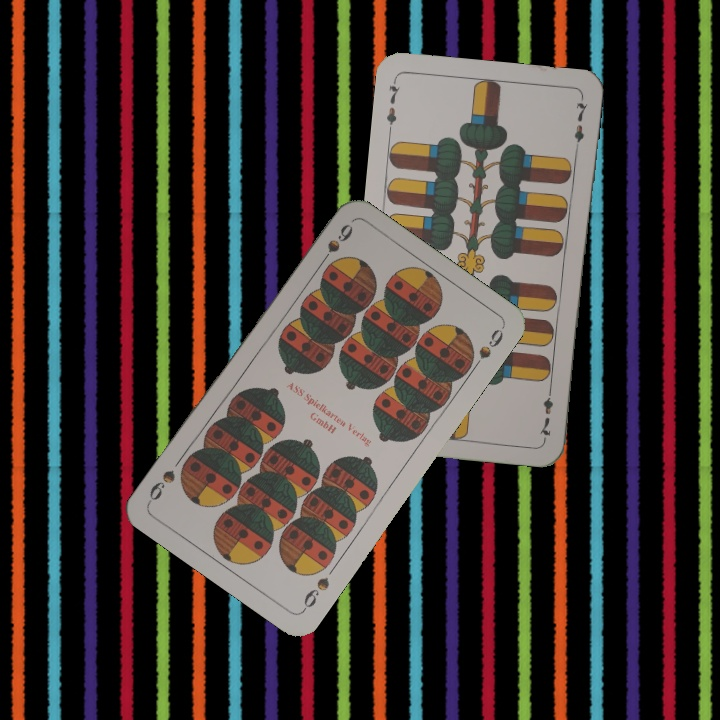E7: (382, 76, 403, 135), (535, 382, 555, 441)
S9: (314, 219, 356, 271), (298, 572, 333, 614)
